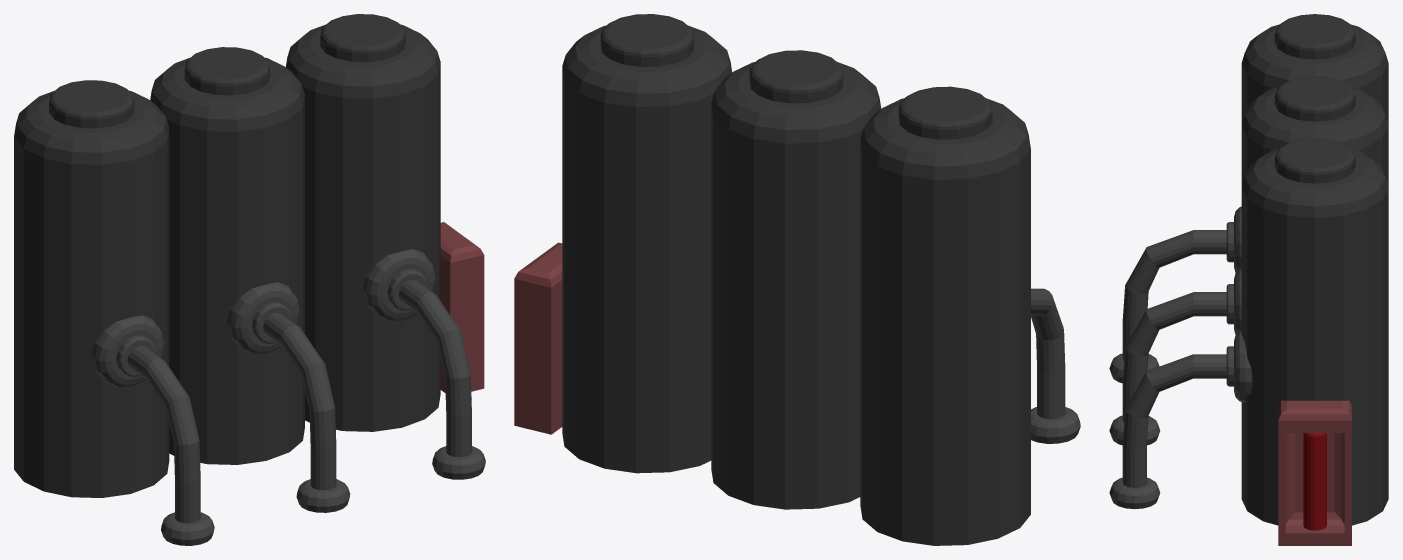
Rendered from Large_DistilleryB.fbx.
3 views of the same model, side by side, from view 1: azimuth 30°, elevation 25°; view 2: azimuth 150°, elevation 25°; view 3: azimuth 270°, elevation 25° (orthographic). The views are drawn at different scales.
Parts seen in each view (by area): view 1: Cylinder.002; view 2: Cylinder.002; view 3: Cylinder.002.
Boxes of the visible parts, bbox=[...] form: Cylinder.002: bbox=[14, 14, 485, 545]; Cylinder.002: bbox=[514, 14, 1080, 545]; Cylinder.002: bbox=[1109, 14, 1388, 545].
Size of the model in its own units: 1300 by 1040 by 760.
